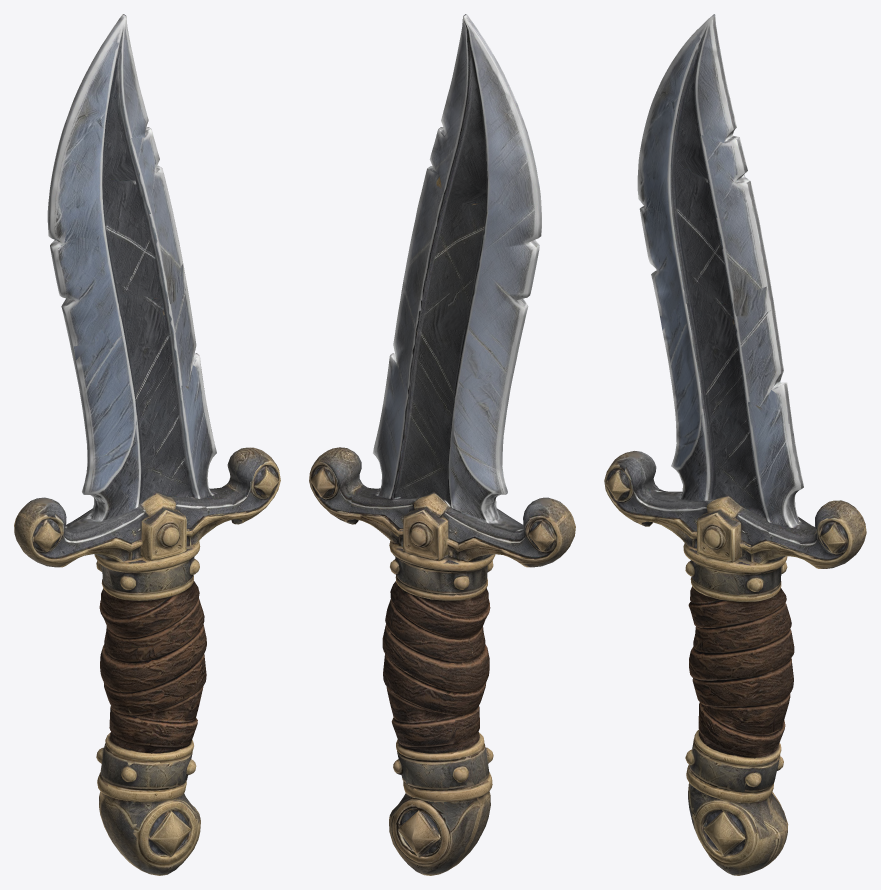
The model's file is FaganKnife.glb.
The picture shows the model from 3 angles, left to right: view 1: azimuth 30°, elevation 25°; view 2: azimuth 150°, elevation 25°; view 3: azimuth 330°, elevation 25°; orthographic projection.
Visible parts, largest first — view 1: Mesh_0; view 2: Mesh_0; view 3: Mesh_0.
Part boxes in pixels (box(x1,y1,x2,y2)): Mesh_0: box(14, 14, 280, 875); Mesh_0: box(309, 14, 575, 875); Mesh_0: box(604, 14, 866, 875).
Bounding box in the file's own units: 0.5919 × 1.9 × 0.2064.
Materials: 1 (1 with a texture image).
